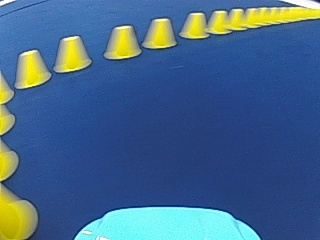cone: (0, 184, 37, 236), (14, 48, 50, 88), (54, 35, 90, 73), (105, 24, 140, 59), (143, 18, 177, 49), (179, 11, 207, 39), (1, 140, 17, 179), (207, 10, 228, 34), (1, 71, 14, 103), (1, 103, 14, 134), (227, 8, 245, 30)
